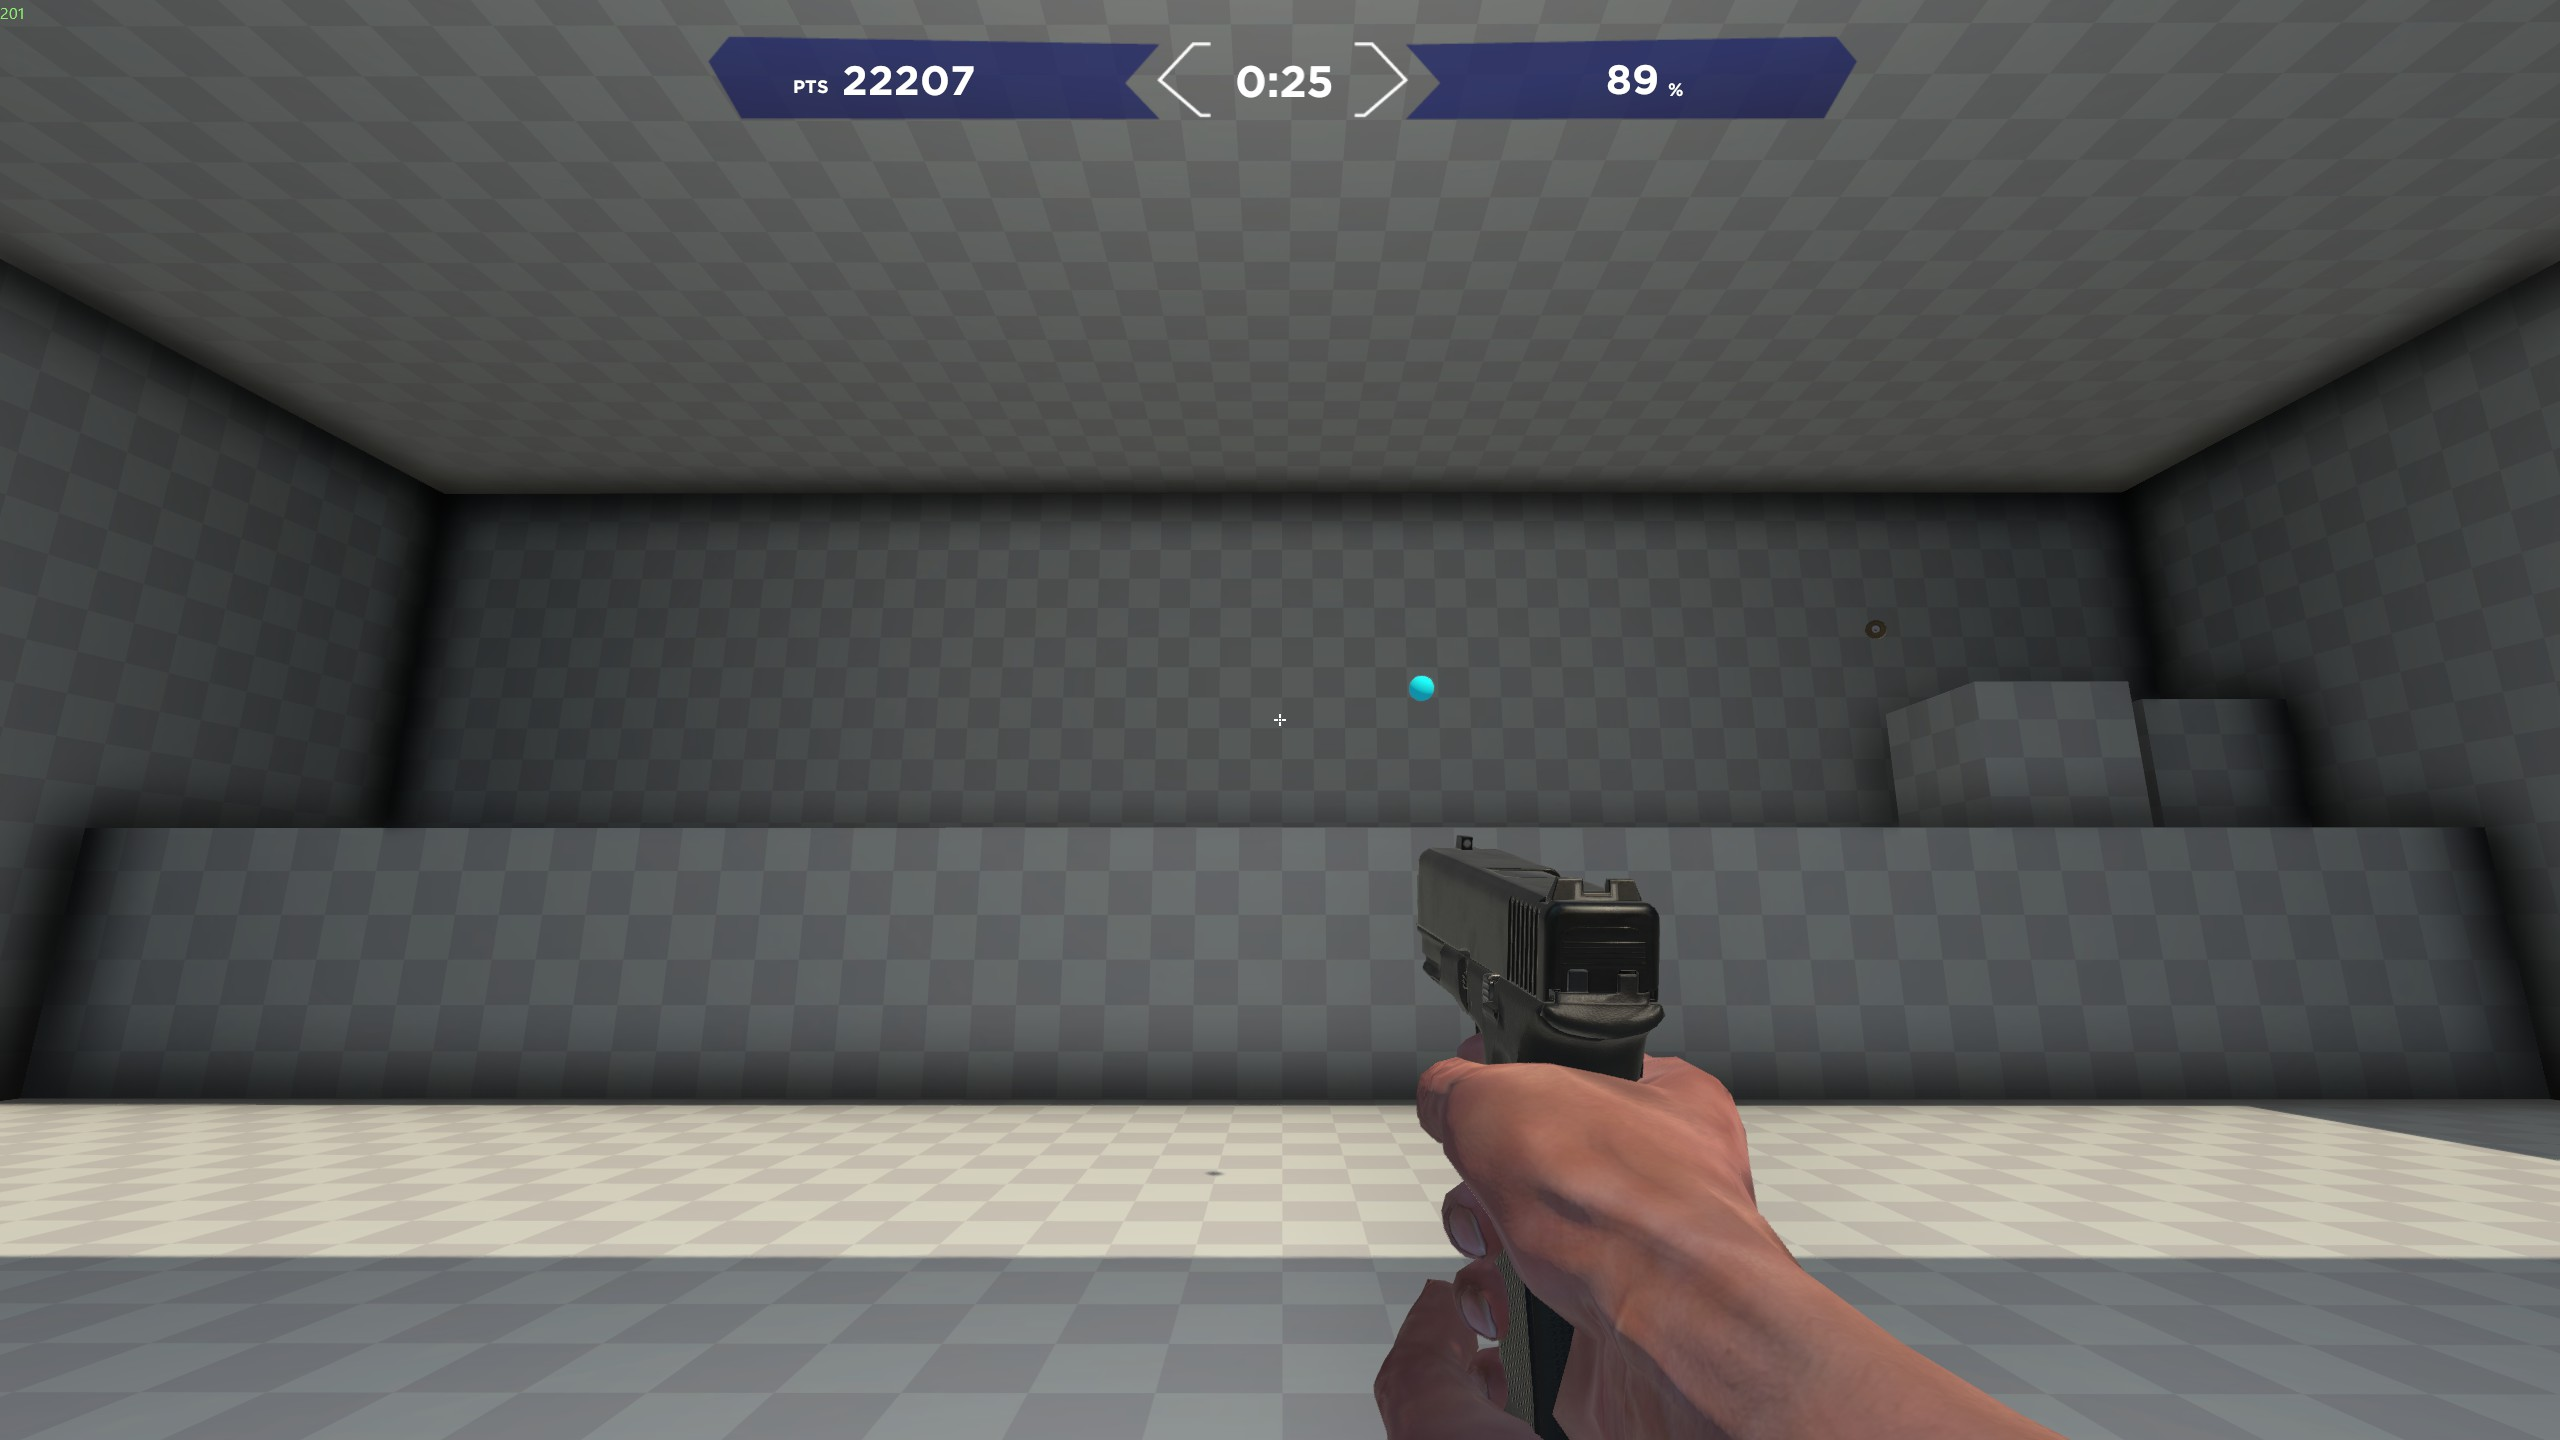Target: (1408, 677, 1442, 702)
